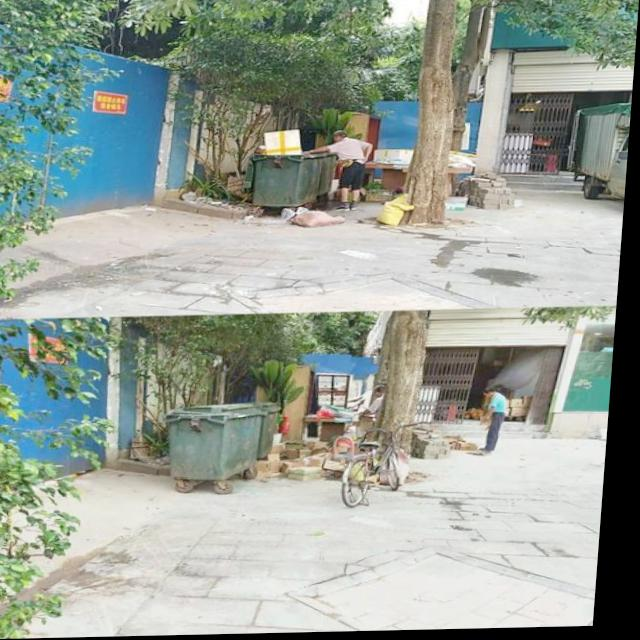garbage: (282, 206, 349, 229)
garbage_bin: (168, 404, 268, 480)
overflow: (244, 130, 327, 207)
